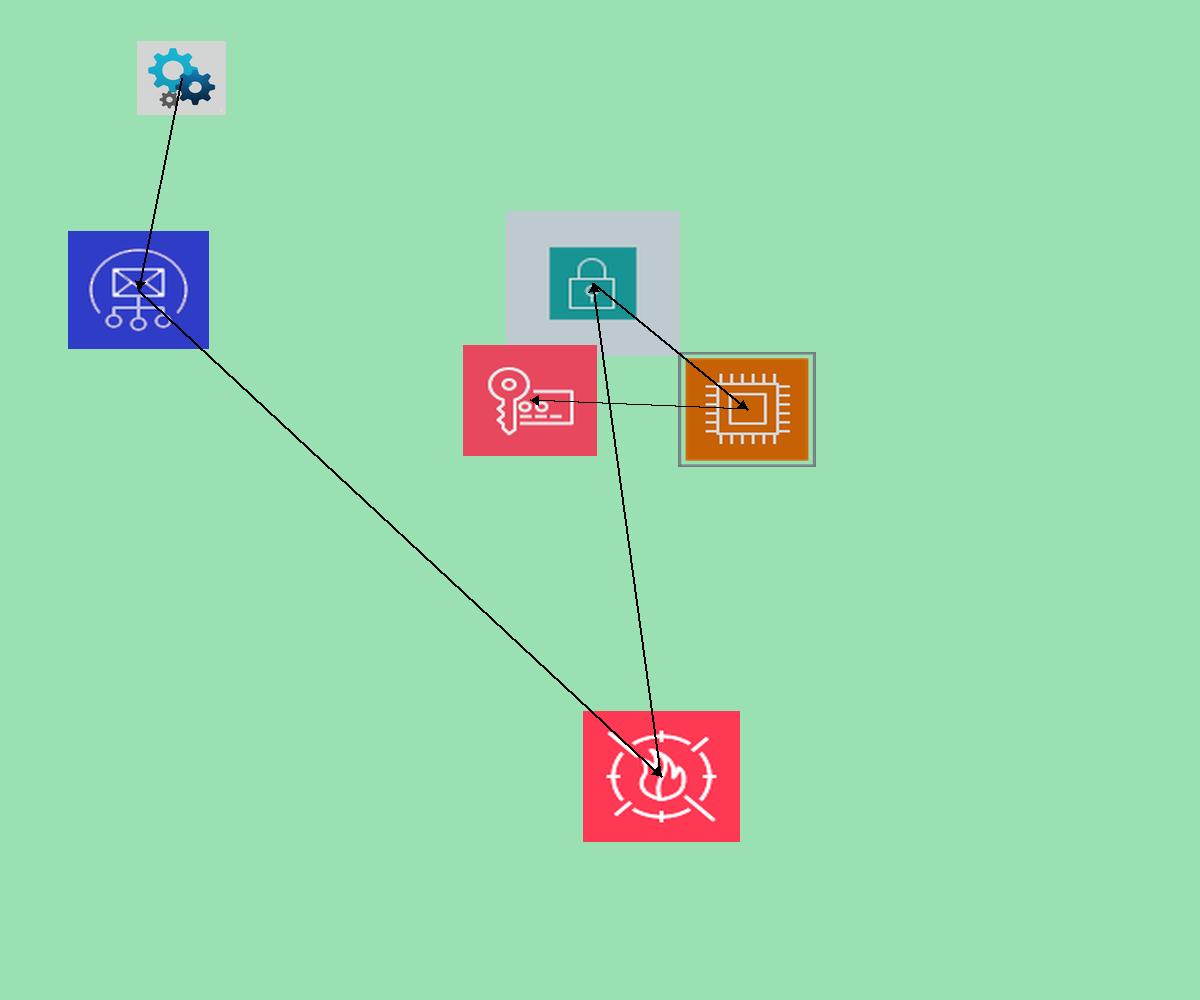AWS-Category_Compute: (678, 352, 816, 467)
AWS-Key-Management-Service: (463, 345, 597, 456)
AWS-Private-subnet: (506, 211, 680, 356)
AWS-Simple-Email-Service: (68, 231, 209, 349)
AWS-WAF: (583, 711, 740, 842)
Azure_api: (137, 41, 226, 115)
